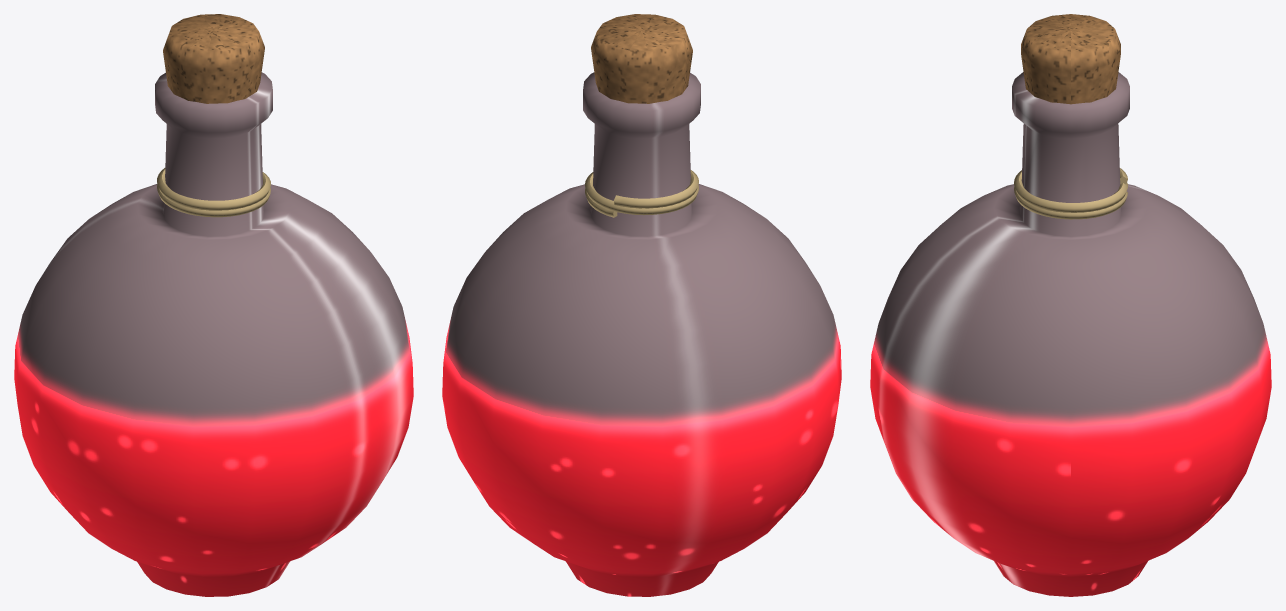
The model's file is Potion.glb.
The picture shows the model from 3 angles, left to right: view 1: azimuth 30°, elevation 25°; view 2: azimuth 150°, elevation 25°; view 3: azimuth 270°, elevation 25°; orthographic projection.
Parts seen in each view (by area): view 1: Potion; view 2: Potion; view 3: Potion.
Boxes of the visible parts, left/top/right/bottom form: Potion: left=14, top=14, right=413, bottom=596; Potion: left=442, top=14, right=841, bottom=596; Potion: left=870, top=14, right=1271, bottom=596.
Size of the model in its own units: 0.6788 by 1 by 0.6788.
Materials: 1 (1 with a texture image).
